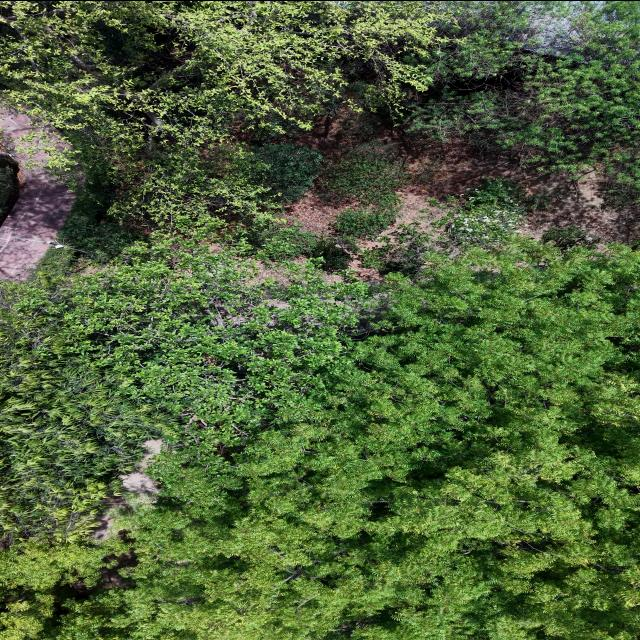DRY_AREA: (290, 106, 639, 244), (296, 110, 639, 243), (381, 136, 639, 244), (381, 141, 639, 244), (403, 137, 639, 243), (400, 141, 639, 243), (0, 108, 75, 279), (509, 167, 639, 244), (519, 173, 639, 244), (91, 438, 162, 540), (381, 186, 444, 244), (381, 186, 443, 241), (69, 548, 137, 598), (285, 190, 342, 233), (119, 438, 161, 493), (0, 144, 25, 224)
PATHWAYS: (0, 108, 74, 279)
VEGETATION_TREE: (0, 1, 639, 639), (2, 241, 639, 639), (1, 1, 636, 244), (1, 1, 440, 228), (1, 1, 439, 143), (408, 1, 639, 206), (1, 276, 175, 541), (359, 178, 529, 276), (318, 142, 409, 239), (317, 142, 409, 207), (446, 179, 526, 245), (251, 142, 322, 200), (241, 217, 329, 260), (334, 194, 399, 239), (541, 224, 601, 250)
